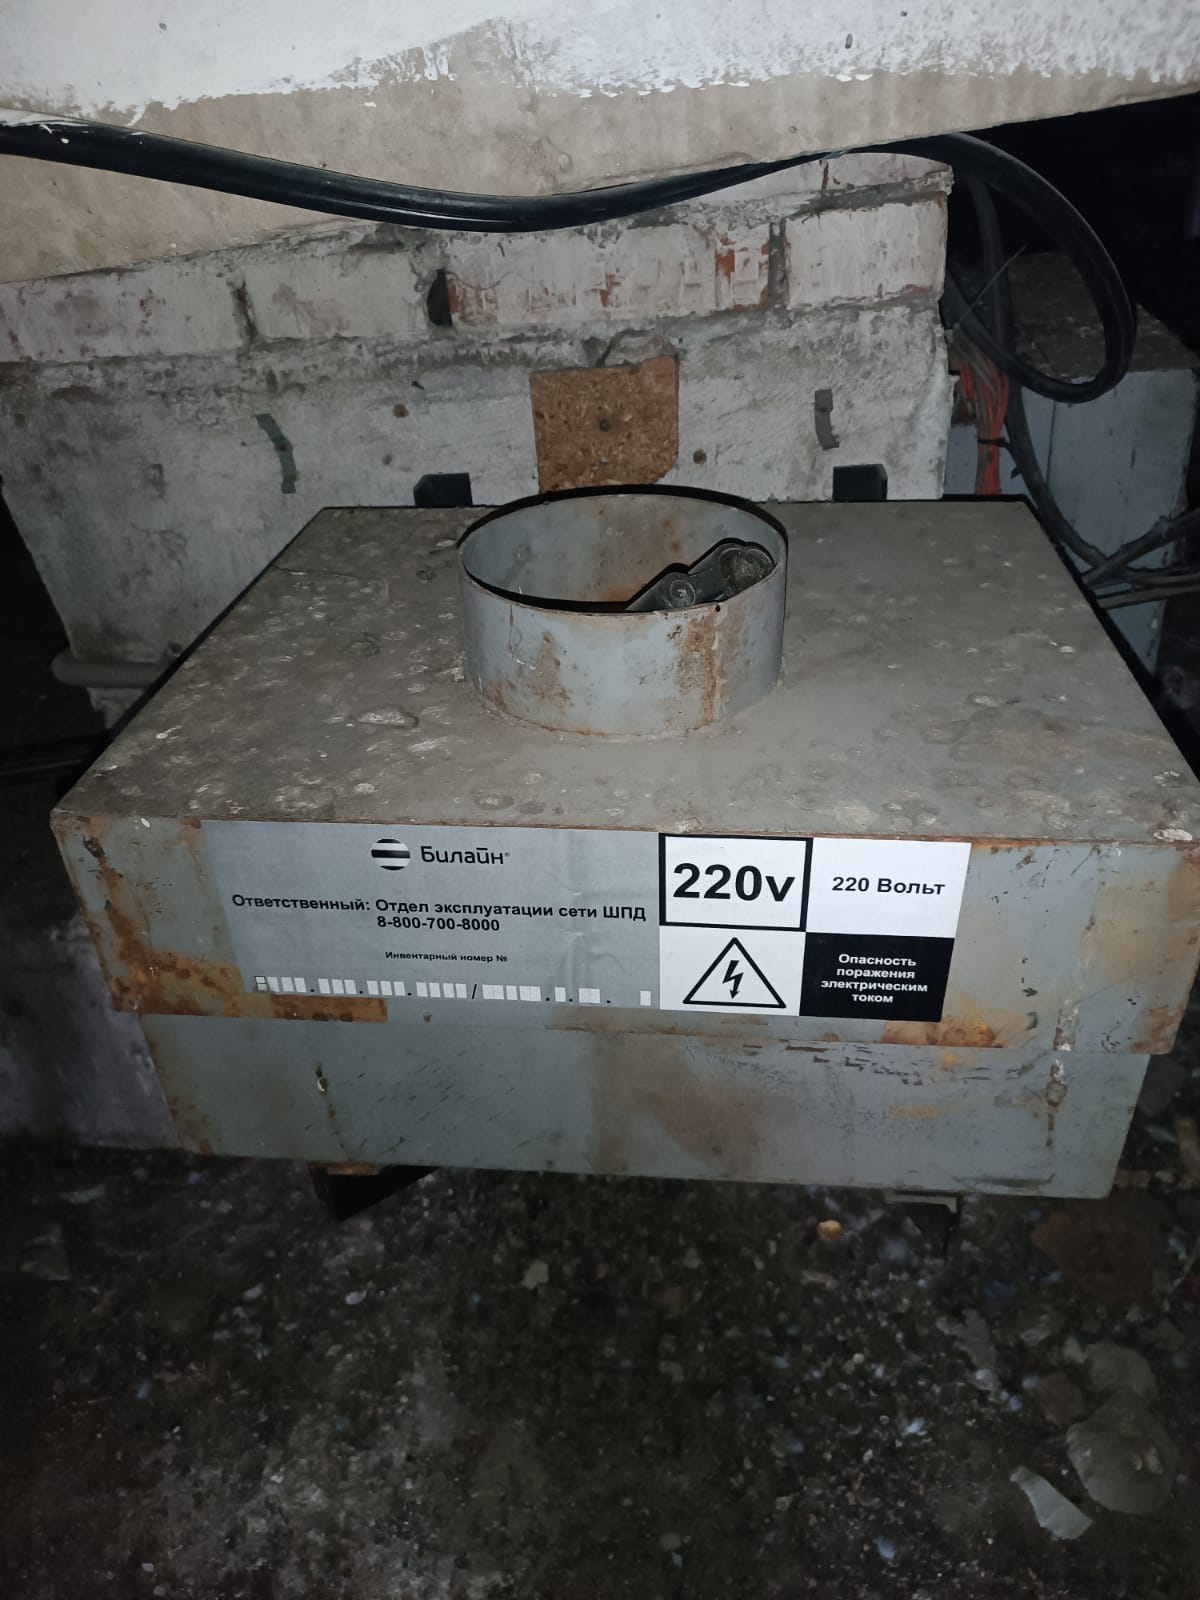shta-ps: (37, 459, 1182, 1212)
